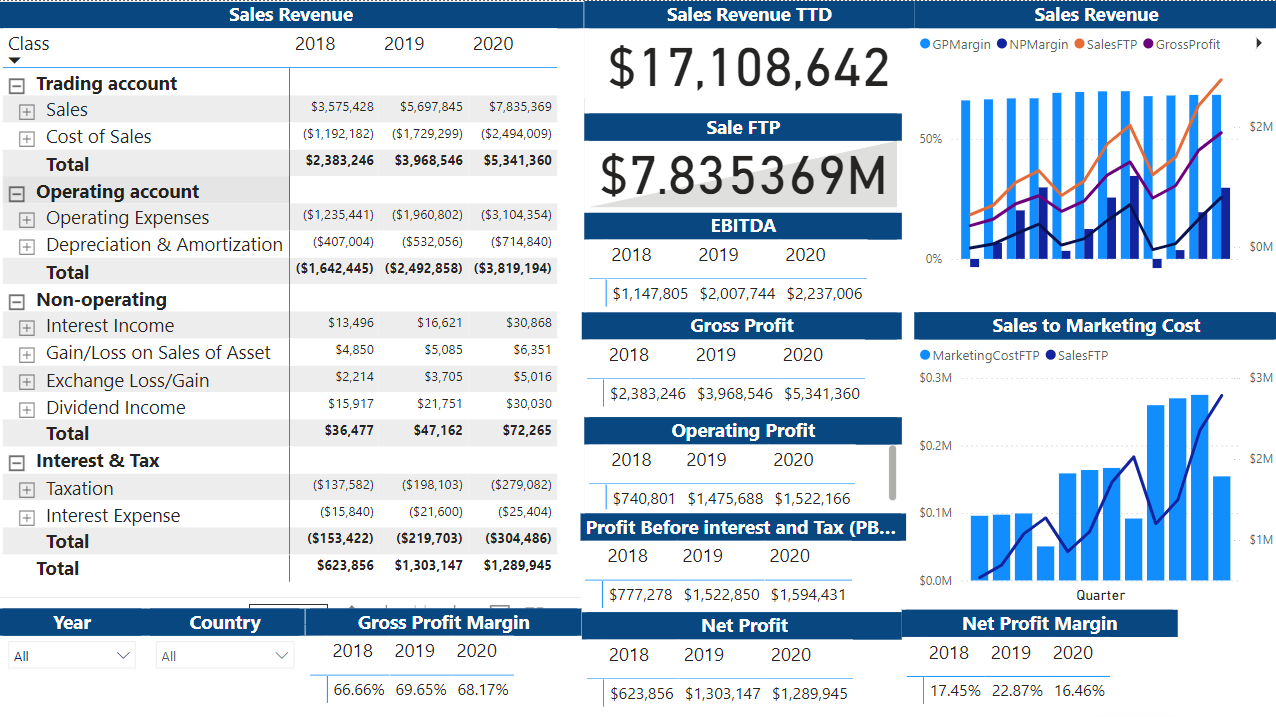

The dashboard page shown, as its layout file describes it:
{"tool":"powerbi","page":{"name":"Profit & Loss","canvas":[1280,720],"ordinal":0},"visuals":[{"type":"pivotTable","title":"Sales Revenue","fields":{"Values":["tbl_GL.Total_FTP"],"Rows":["tbl_ChartofAccounts.Class","tbl_ChartofAccounts.SubClass","tbl_ChartofAccounts.SubClass2","tbl_ChartofAccounts.Account"],"Columns":["tbl_Calendar.Date.Variation.Date Hierarchy.Year","tbl_Calendar.Date.Variation.Date Hierarchy.Quarter","tbl_Calendar.Date.Variation.Date Hierarchy.Month","tbl_Calendar.Date.Variation.Date Hierarchy.Day"]},"box":[0,0,585.7,598],"z":0},{"type":"slicer","title":"Country","fields":{"Values":["tbl_Territory.Country"]},"box":[148,607.7,159,112.5],"z":1000},{"type":"pivotTable","title":"Gross Profit","fields":{"Values":["tbl_GL.GrossProfit"],"Columns":["tbl_Calendar.Date.Variation.Date Hierarchy.Year","tbl_Calendar.Date.Variation.Date Hierarchy.Quarter","tbl_Calendar.Date.Variation.Date Hierarchy.Month","tbl_Calendar.Date.Variation.Date Hierarchy.Day"]},"box":[583.3,311.8,320.4,103.9],"z":2000},{"type":"pivotTable","title":"Operating Profit ","fields":{"Columns":["tbl_Calendar.Date.Variation.Date Hierarchy.Year","tbl_Calendar.Date.Variation.Date Hierarchy.Quarter","tbl_Calendar.Date.Variation.Date Hierarchy.Month","tbl_Calendar.Date.Variation.Date Hierarchy.Day"],"Values":["tbl_GL.OperatingProfit"]},"box":[585.7,415.8,317.9,96.6],"z":3000},{"type":"pivotTable","title":"Profit Before interest and Tax (PBIT)","fields":{"Columns":["tbl_Calendar.Date.Variation.Date Hierarchy.Year","tbl_Calendar.Date.Variation.Date Hierarchy.Quarter","tbl_Calendar.Date.Variation.Date Hierarchy.Month","tbl_Calendar.Date.Variation.Date Hierarchy.Day"],"Values":["tbl_GL.PBIT"]},"box":[582.1,512.4,325.3,101.5],"z":4000},{"type":"pivotTable","title":"Net Profit","fields":{"Columns":["tbl_Calendar.Date.Variation.Date Hierarchy.Year","tbl_Calendar.Date.Variation.Date Hierarchy.Quarter","tbl_Calendar.Date.Variation.Date Hierarchy.Month","tbl_Calendar.Date.Variation.Date Hierarchy.Day"],"Values":["tbl_GL.NetProfit"]},"box":[583.3,611.4,325.3,106.4],"z":5000},{"type":"pivotTable","title":"EBITDA","fields":{"Columns":["tbl_Calendar.Date.Variation.Date Hierarchy.Year","tbl_Calendar.Date.Variation.Date Hierarchy.Quarter","tbl_Calendar.Date.Variation.Date Hierarchy.Month","tbl_Calendar.Date.Variation.Date Hierarchy.Day"],"Values":["tbl_GL.EBITDA"]},"box":[585.7,211.6,317.9,100.3],"z":6000},{"type":"card","title":"Sales Revenue TTD","fields":{"Values":["Sum(tbl_GL.Amount)"]},"box":[585.7,0,330.2,96.6],"z":7000},{"type":"kpi","title":"Sale FTP","fields":{"Indicator":["Sum(tbl_GL.Amount)"],"TrendLine":["tbl_Calendar.Date.Variation.Date Hierarchy.Year"]},"box":[585.7,112.5,317.9,99],"z":8000},{"type":"slicer","title":"Year","fields":{"Values":["tbl_Calendar.Year"]},"box":[0,607.7,148,112.5],"z":9000},{"type":"lineClusteredColumnComboChart","title":"Sales Revenue","fields":{"Category":["tbl_Calendar.Date.Variation.Date Hierarchy.Year","tbl_Calendar.Date.Variation.Date Hierarchy.Quarter","tbl_Calendar.Date.Variation.Date Hierarchy.Month","tbl_Calendar.Date.Variation.Date Hierarchy.Day"],"Y2":["tbl_GL.SalesFTP","tbl_GL.GrossProfit","tbl_GL.NetProfit"],"Y":["tbl_GL.GPMargin","tbl_GL.NPMargin"]},"box":[915.9,0,364.4,299.6],"z":10000},{"type":"lineStackedColumnComboChart","title":"Sales to Marketing Cost","fields":{"Category":["tbl_Calendar.Date.Variation.Date Hierarchy.Year","tbl_Calendar.Date.Variation.Date Hierarchy.Quarter","tbl_Calendar.Date.Variation.Date Hierarchy.Month","tbl_Calendar.Date.Variation.Date Hierarchy.Day"],"Y":["tbl_GL.MarketingCostFTP"],"Y2":["tbl_GL.SalesFTP"]},"box":[915.9,311.8,364.4,295.9],"z":11000},{"type":"pivotTable","title":"Gross Profit Margin","fields":{"Columns":["tbl_Calendar.Date.Variation.Date Hierarchy.Year","tbl_Calendar.Date.Variation.Date Hierarchy.Quarter","tbl_Calendar.Date.Variation.Date Hierarchy.Month","tbl_Calendar.Date.Variation.Date Hierarchy.Day"],"Values":["tbl_GL.GPMargin"]},"box":[306.9,607.7,276.4,110.1],"z":12000},{"type":"pivotTable","title":"Net Profit Margin","fields":{"Columns":["tbl_Calendar.Date.Variation.Date Hierarchy.Year","tbl_Calendar.Date.Variation.Date Hierarchy.Quarter","tbl_Calendar.Date.Variation.Date Hierarchy.Month","tbl_Calendar.Date.Variation.Date Hierarchy.Day"],"Values":["tbl_GL.NPMargin"]},"box":[904.3,609.3,275.8,111.1],"z":13000}]}

Visuals, with their boxes in screenshot pixels (x1, y1, x2, y2), scaled from the page's 1280x720 canvas onto the 1276x717 screenshot:
"Sales Revenue" pivotTable: region(0, 0, 584, 596)
"Country" slicer: region(148, 605, 306, 716)
"Gross Profit" pivotTable: region(581, 311, 901, 414)
"Operating Profit " pivotTable: region(584, 414, 901, 510)
"Profit Before interest and Tax (PBIT)" pivotTable: region(580, 510, 905, 611)
"Net Profit" pivotTable: region(581, 609, 906, 715)
"EBITDA" pivotTable: region(584, 211, 901, 311)
"Sales Revenue TTD" card: region(584, 0, 913, 96)
"Sale FTP" kpi: region(584, 112, 901, 211)
"Year" slicer: region(0, 605, 148, 716)
"Sales Revenue" lineClusteredColumnComboChart: region(913, 0, 1275, 298)
"Sales to Marketing Cost" lineStackedColumnComboChart: region(913, 311, 1275, 605)
"Gross Profit Margin" pivotTable: region(306, 605, 581, 715)
"Net Profit Margin" pivotTable: region(901, 607, 1176, 716)
